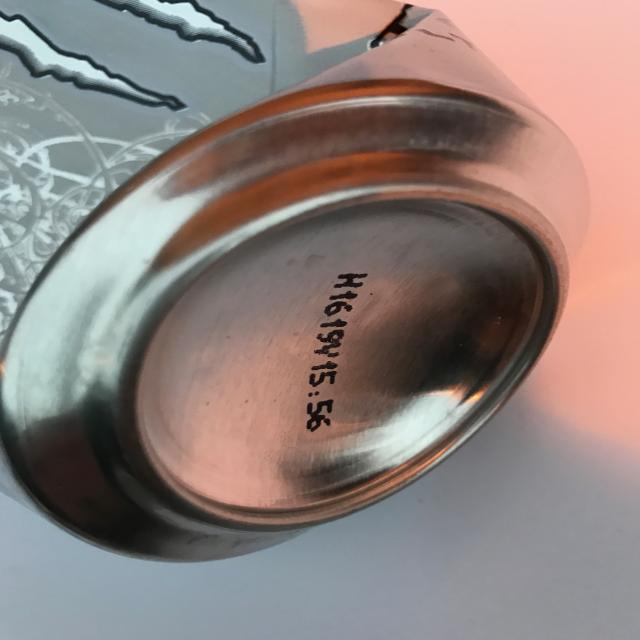metal: (0, 0, 591, 564)
